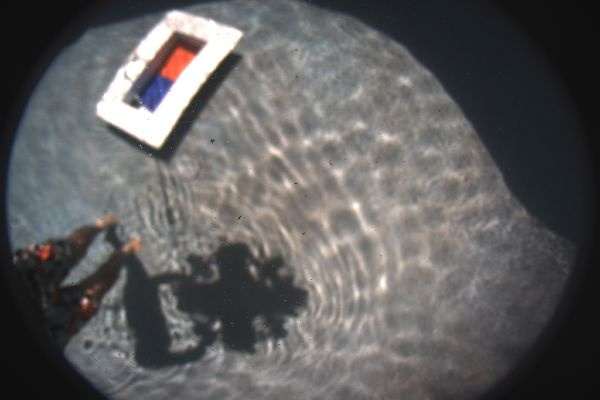bin: (96, 11, 242, 149)
bin_bleue: (137, 74, 174, 110)
bin_rouge: (159, 43, 197, 81)
